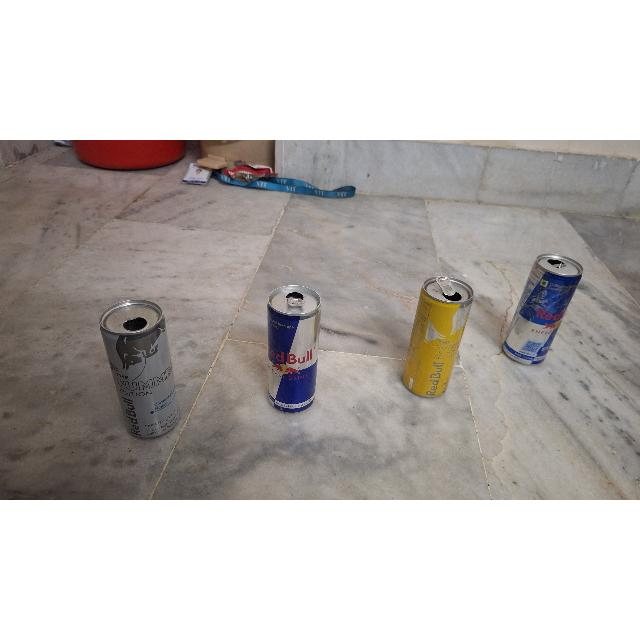Redbull: (260, 282, 324, 418)
Redbull DanceYourStyle: (494, 252, 594, 368)
Redbull Summer Edition: (90, 302, 192, 446)
Redbull Yellow Edition: (402, 274, 474, 406)
